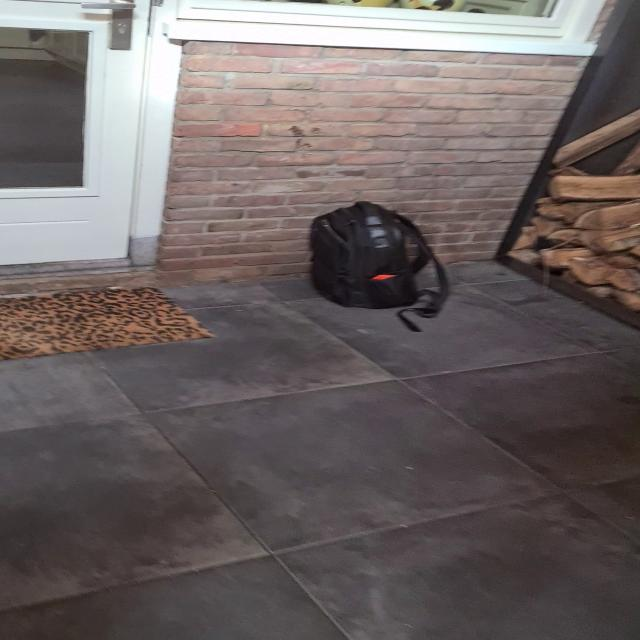backpack: (301, 199, 448, 314)
